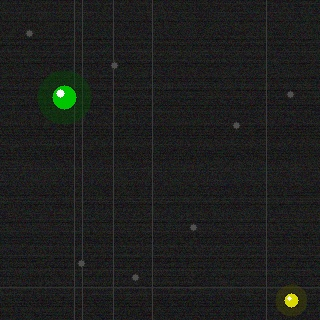green_normal: (50, 83, 78, 111)
yellow_warning: (282, 291, 300, 309)
